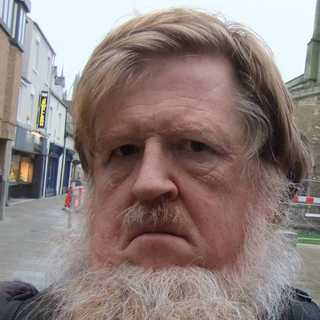eye: (164, 131, 223, 162), (103, 141, 144, 169)
